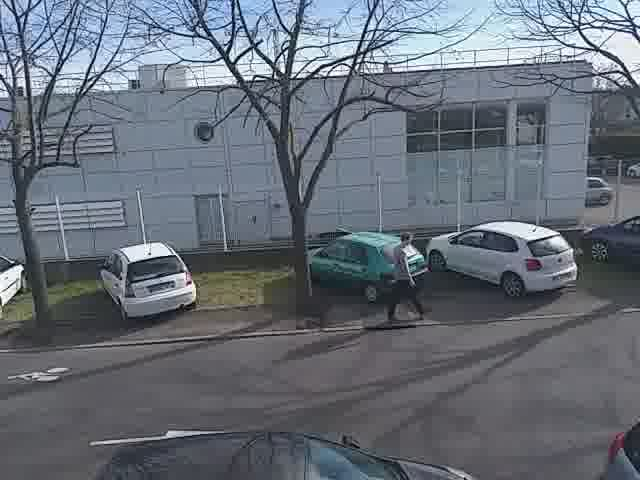persona: (387, 227, 431, 320)
